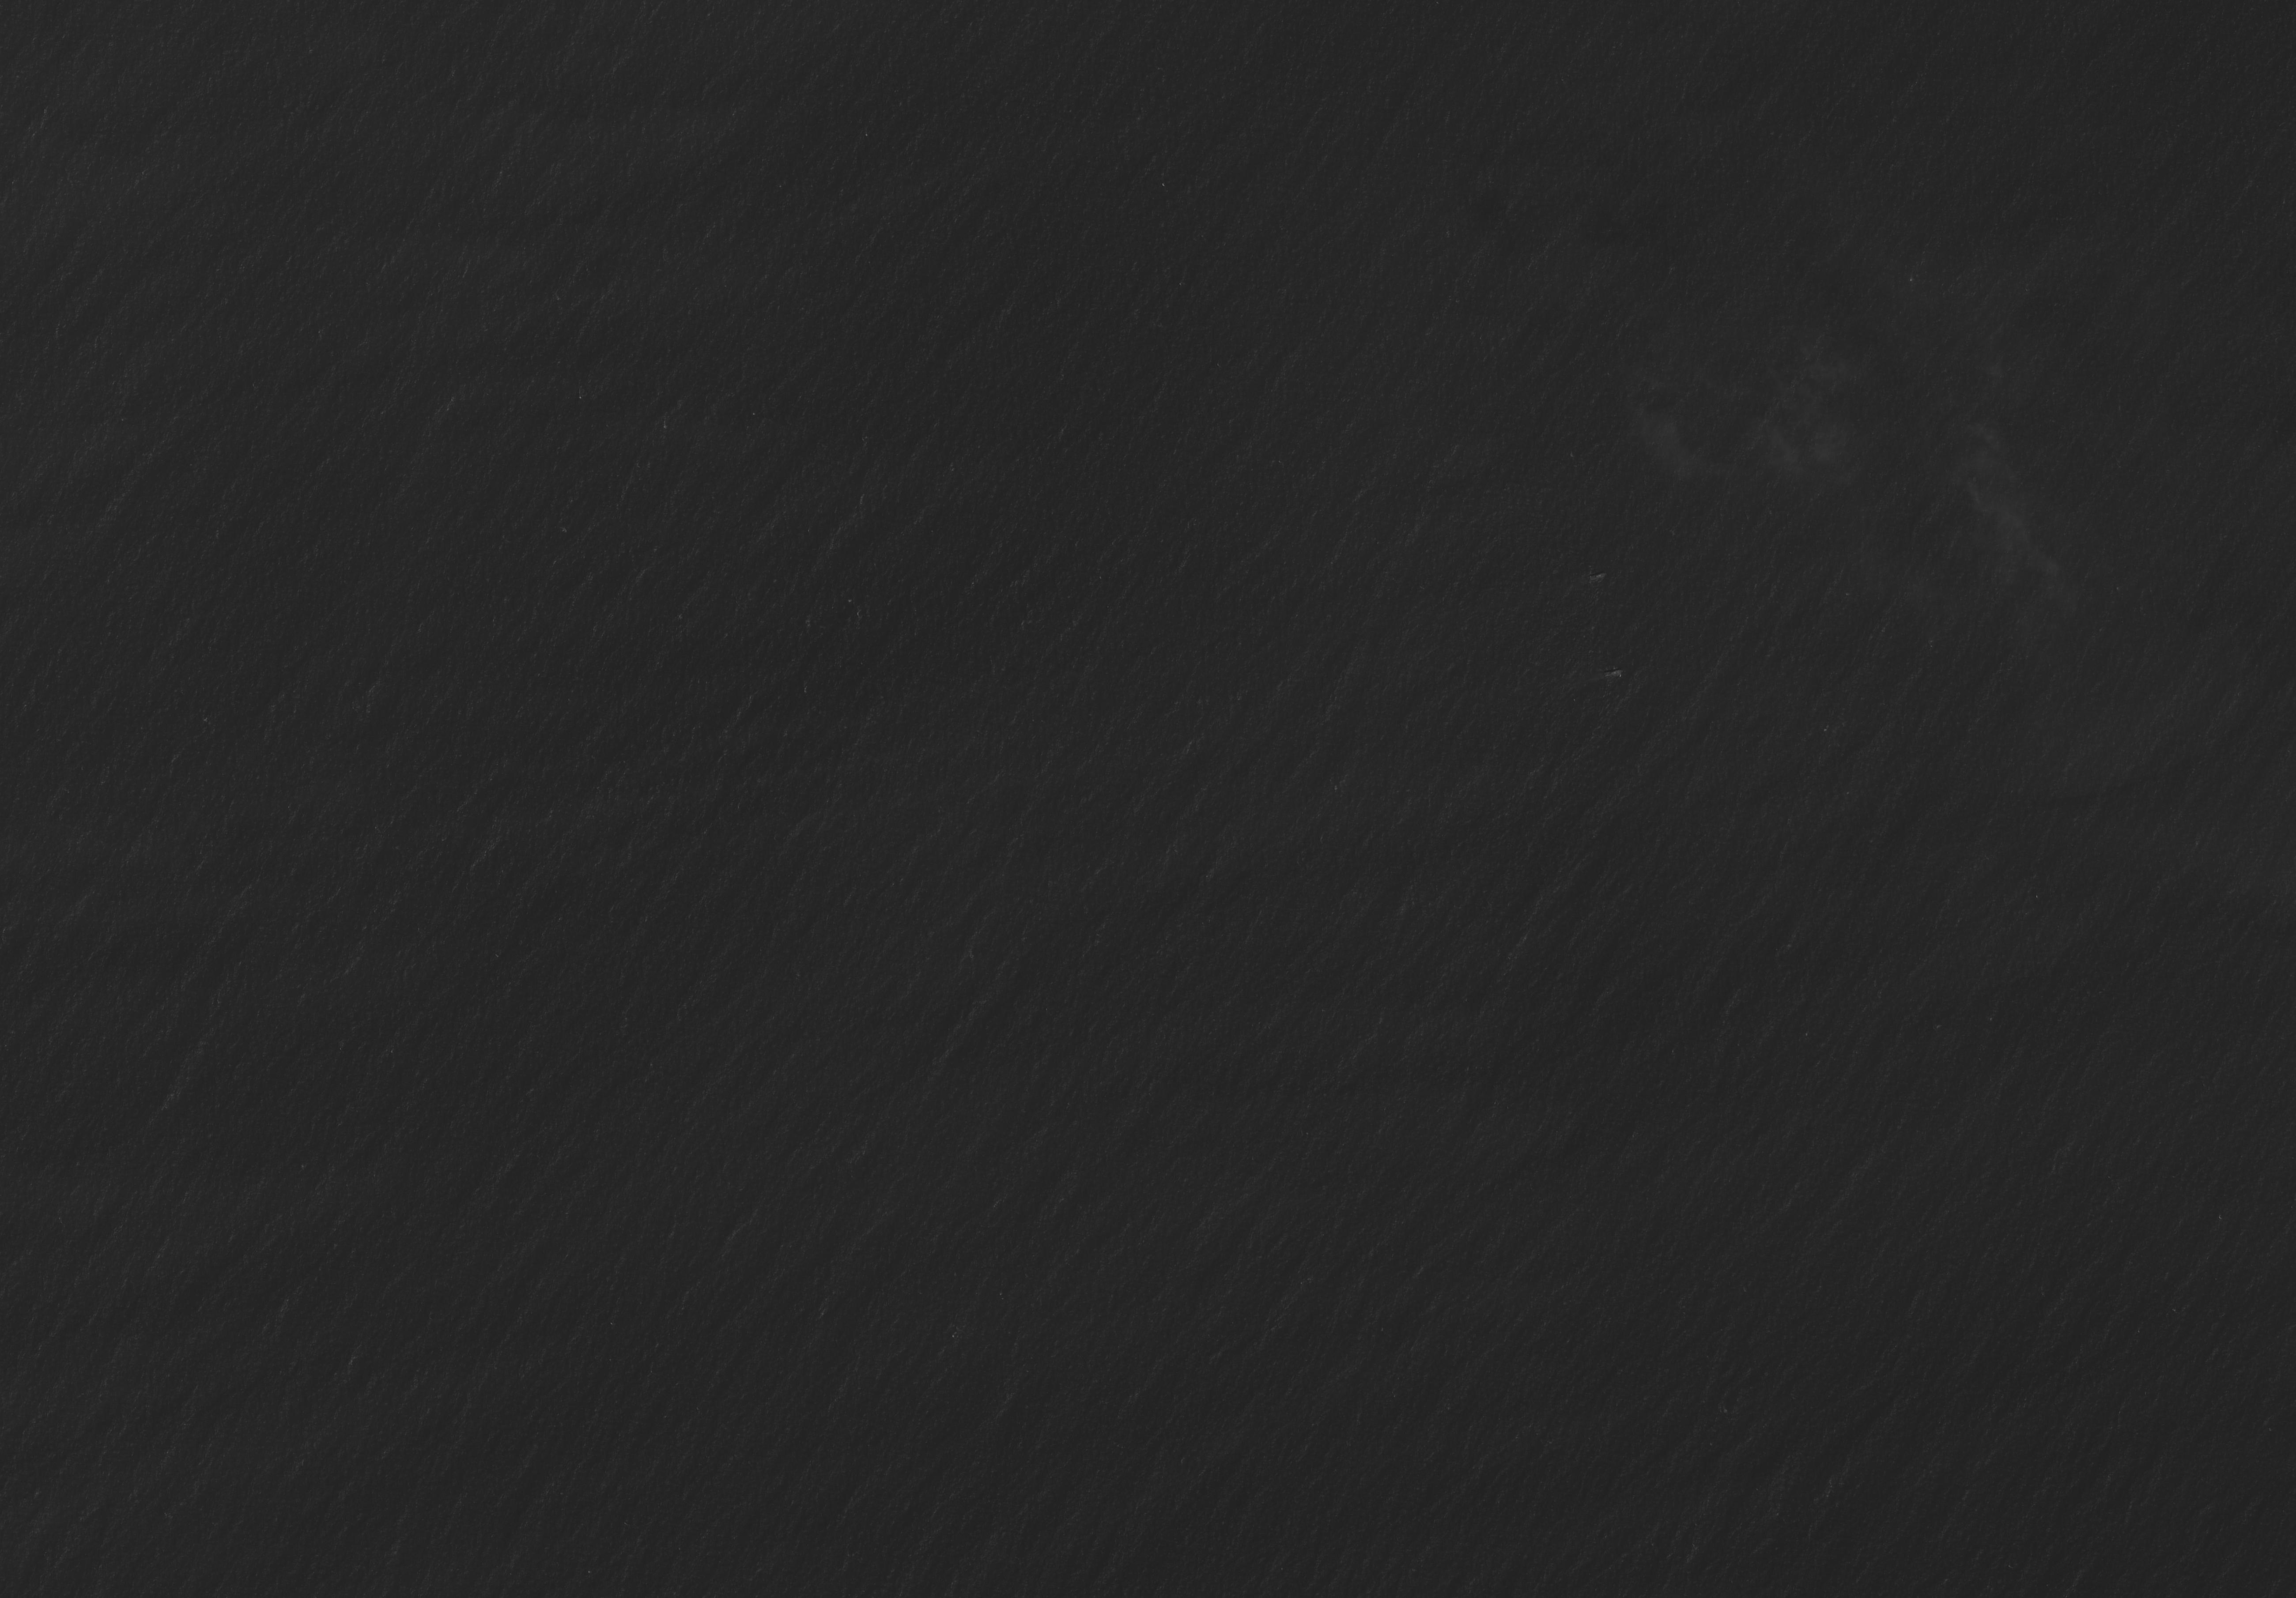ship: (1603, 668, 1626, 679), (1589, 570, 1607, 581)
